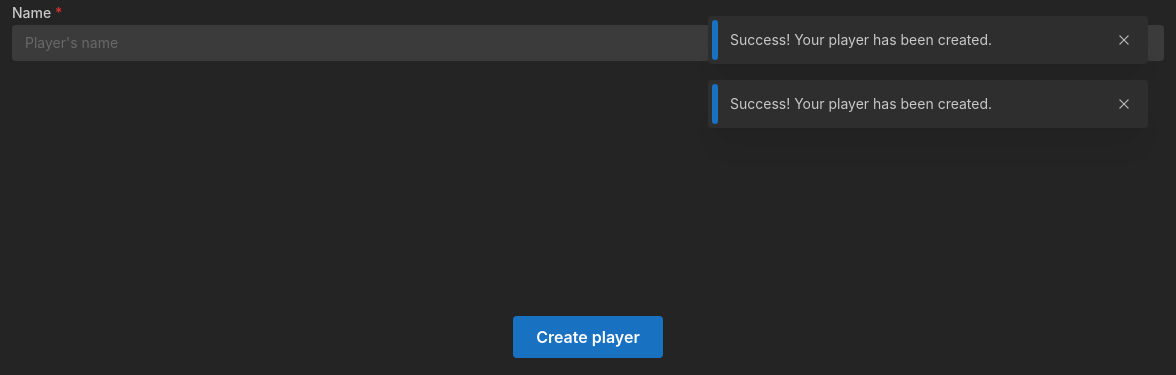
Test: PlayerCreationForm › does not submit form data if validation fails
Fill out the form with invalid data (less than 2 characters)
Type "J" into the field with test id "name-input" at (588, 43), box [12, 25, 1164, 61]
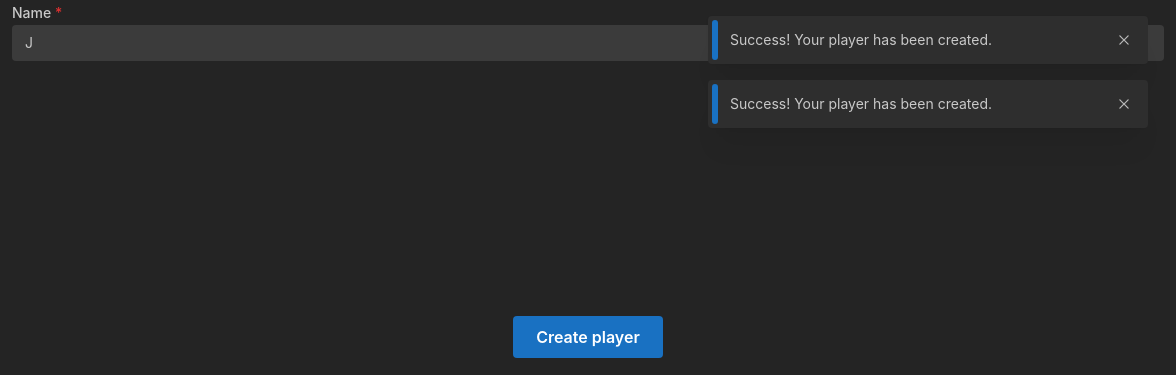
Submit the form
Click the button with test id "create-player-button" at (588, 337), box [513, 316, 663, 358]
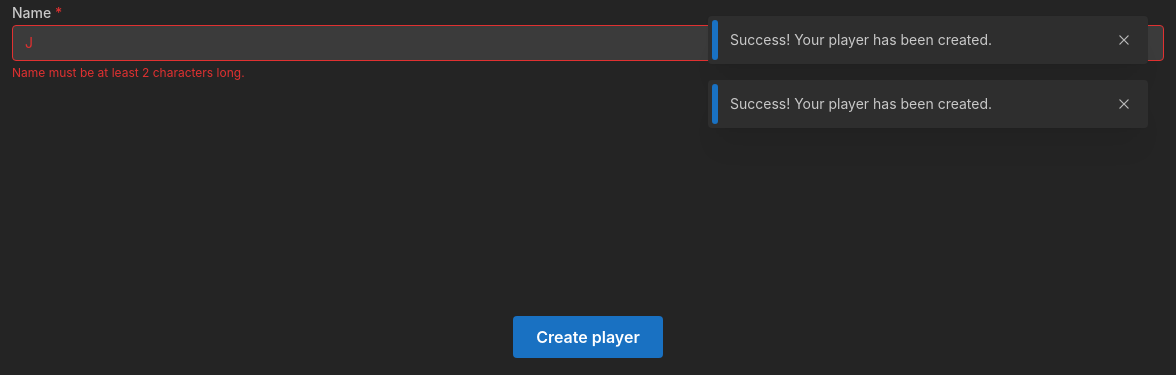
Expected: the text "Name must be at least 2 characters long." is shown, [12, 65, 245, 80]
